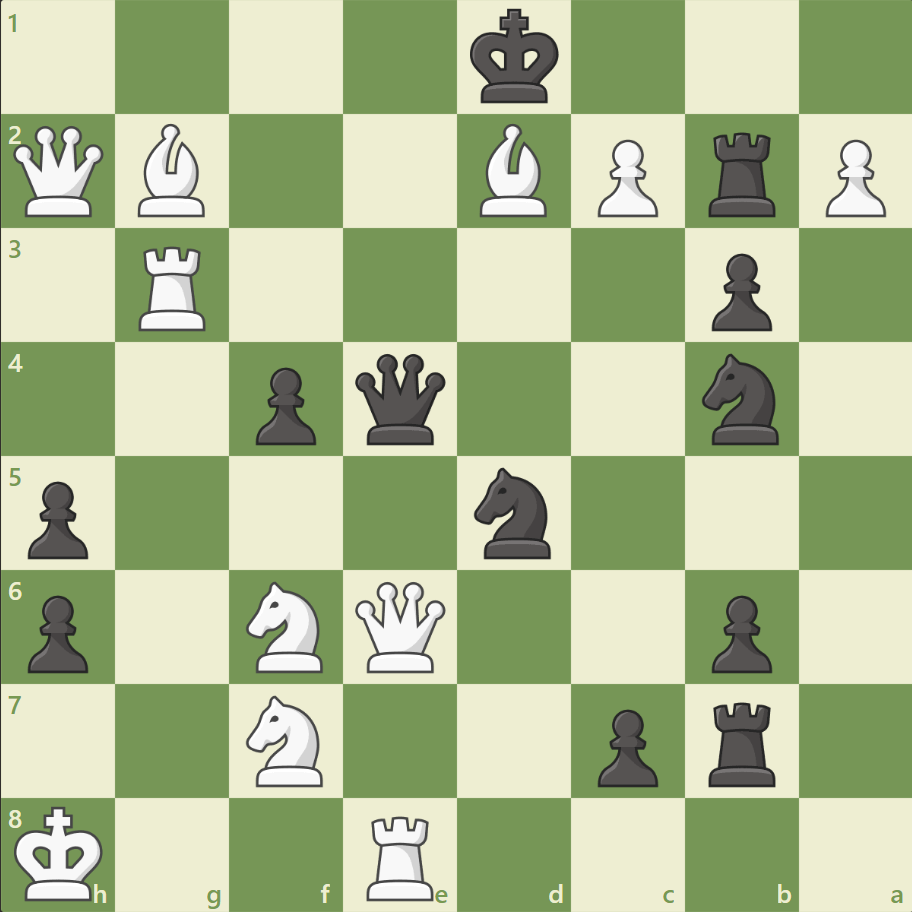B: (471, 120, 555, 222), (131, 120, 215, 222)
K: (11, 798, 111, 906)
N: (238, 688, 335, 791), (238, 575, 335, 677)
P: (815, 132, 889, 223), (588, 132, 662, 223)
Q: (351, 576, 450, 676), (10, 122, 109, 222)
R: (360, 806, 442, 904), (133, 239, 215, 336)
k: (465, 4, 565, 112)
n: (465, 461, 562, 564), (692, 348, 789, 450)
p: (701, 586, 776, 677), (20, 586, 95, 677), (20, 473, 95, 564), (247, 359, 322, 450), (701, 246, 776, 337), (588, 700, 662, 791)
q: (351, 349, 450, 449)
r: (700, 693, 783, 790), (700, 125, 783, 222)
